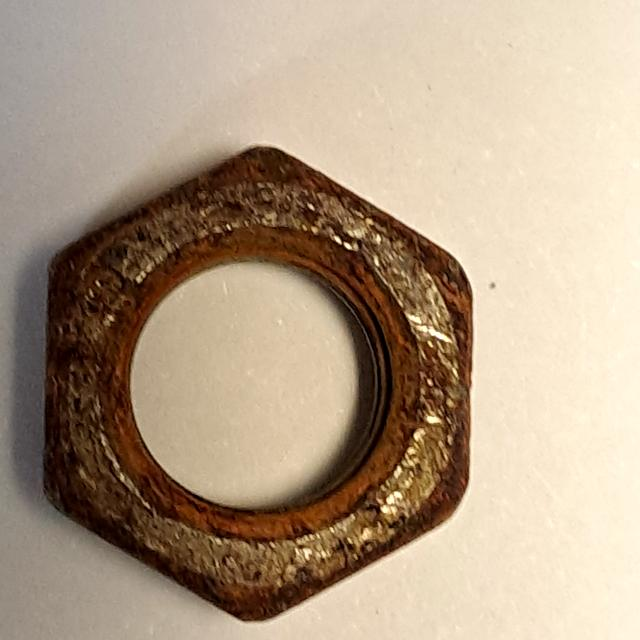Rust: (30, 134, 487, 637)
